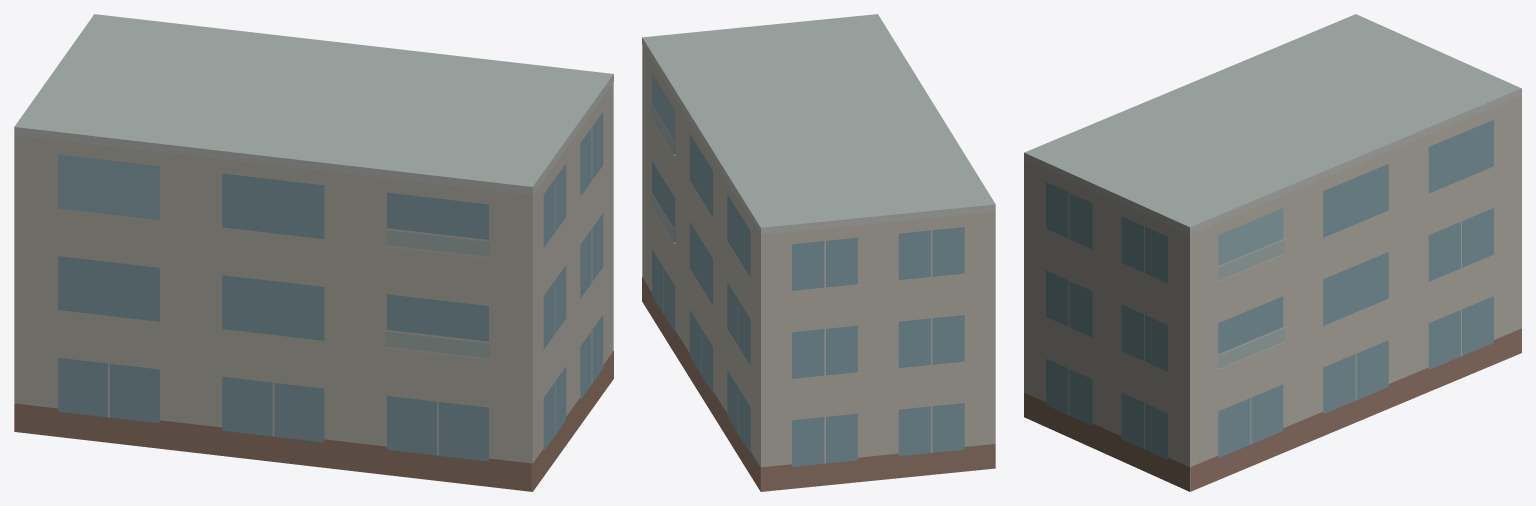
Rendered from survey-upis-32718077.glb.
3 renders of one model, left to right at view 1: azimuth 30°, elevation 25°; view 2: azimuth 150°, elevation 25°; view 3: azimuth 270°, elevation 25°, orthographic. The views are drawn at different scales.
Parts seen in each view (by area): view 1: survey-upis-32718077.tmp; view 2: survey-upis-32718077.tmp; view 3: survey-upis-32718077.tmp.
Boxes of the visible parts, x1=… form: survey-upis-32718077.tmp: x1=14, y1=14, x2=613, y2=491; survey-upis-32718077.tmp: x1=642, y1=14, x2=995, y2=491; survey-upis-32718077.tmp: x1=1024, y1=14, x2=1521, y2=491.
Bounding box in the file's own units: 15.83 × 9.15 × 15.61.
